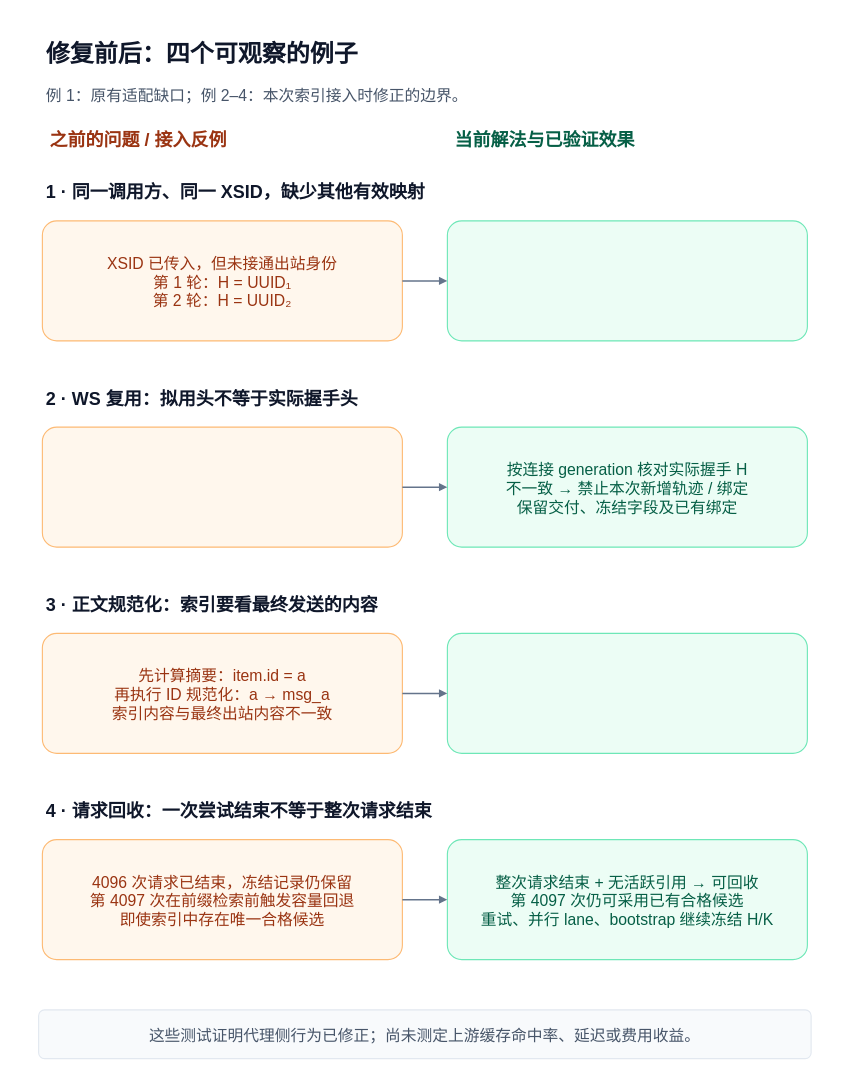
Some shapes in this 850 by 1090 pixel diagram are drawn without their labels. The centre of each missing label's shape, as x and y in pixels:
"CallerScope + 合格 XSID → 确定性 H 第 1 轮：H = U；第 2 轮：H = U 仅补 H，缺失的 K 不自动增加" goes at pixel 627 280.
"先规范化：a → msg_a 再计算摘要，再发送 HTTP / WS / 流式 WS 的口径一致" goes at pixel 627 693.
"旧连接实际握手：H1 本轮拟用：H2（正文还可能 K = H2） 索引却按未获握手支持的 H2 发布" goes at pixel 222 486.
